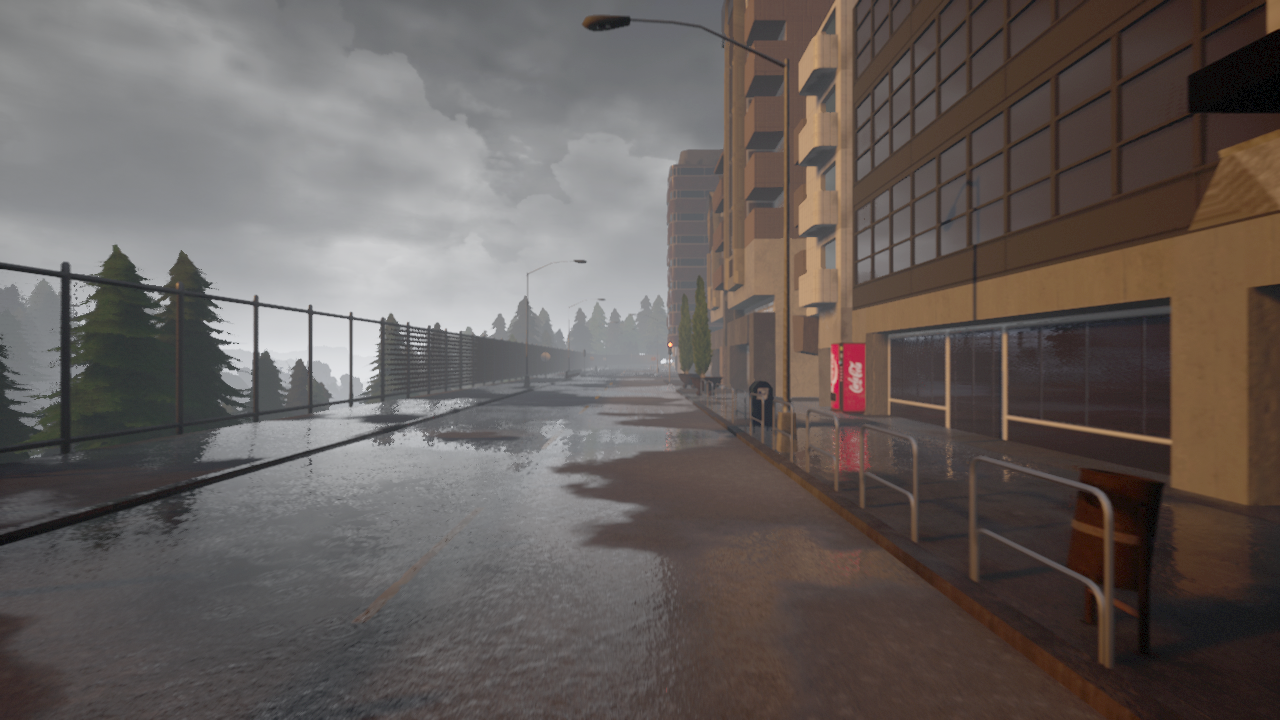red: (666, 340, 673, 355)
